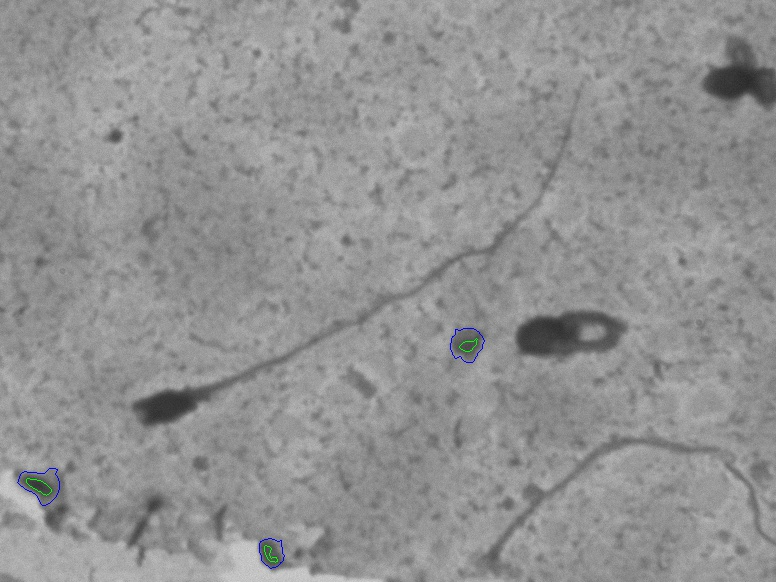Abnormal: (51, 57, 422, 452), (513, 282, 641, 377)
